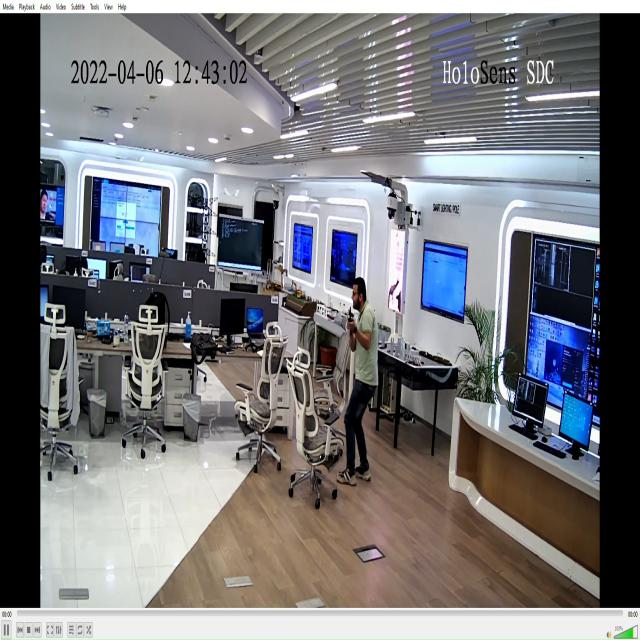long weapon: (347, 304, 357, 339)
